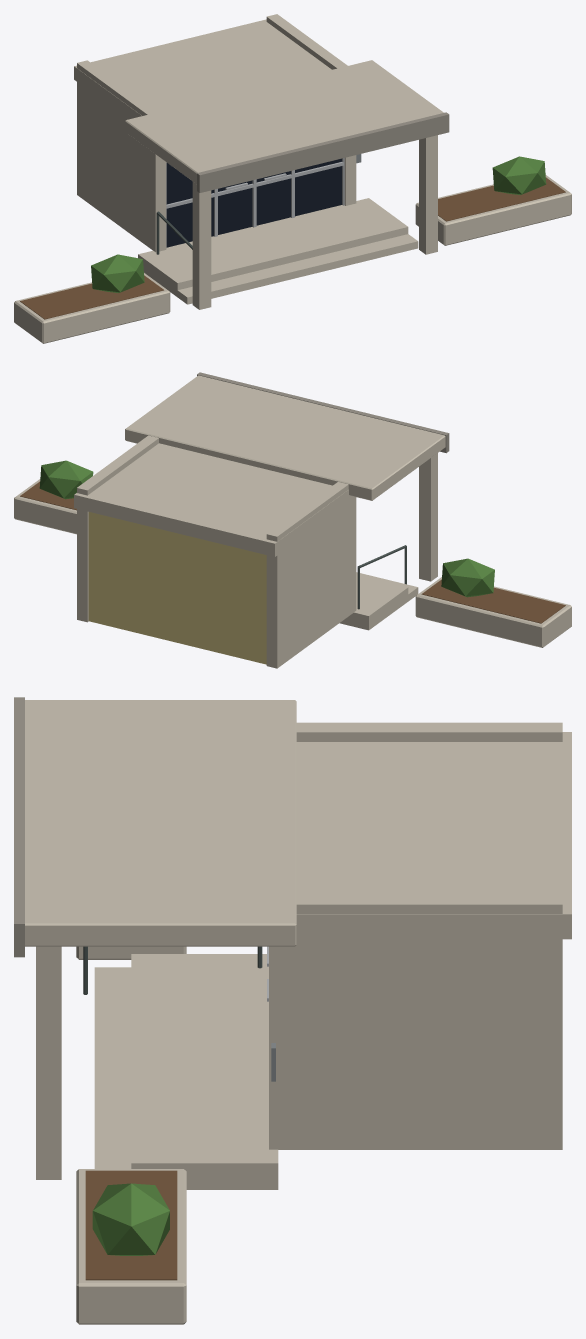
File: entree_tour.glb
3 renders of one model, top to bottom at view 1: azimuth 30°, elevation 25°; view 2: azimuth 150°, elevation 25°; view 3: azimuth 270°, elevation 25°, orthographic. The views are drawn at different scales.
Visible parts, largest first — view 1: Auvent, ToitHall, MurHall, Seuil, Vitrage, AuventBord, Jardiniere, Marche, Jardiniere.001, Terre, Poteau, Terre.001 (+5 smaller); view 2: Auvent, FondHall, ToitHall, MurHall, Jardiniere, MurHall.001, Terre, Poteau, Seuil, Arbuste, Jardiniere.001, Arbuste.001 (+2 smaller); view 3: Auvent, MurHall.001, ToitHall, Seuil, Marche, Jardiniere.001, Poteau.001, Terre.001, MurHall, Arbuste.001, AuventBord, Jardiniere.
Boxes of the visible parts, box(x1,y1,x2,y2) form: Auvent: box(125, 60, 443, 184); ToitHall: box(74, 19, 331, 119); MurHall: box(77, 60, 166, 252); Seuil: box(138, 198, 408, 297); Vitrage: box(166, 158, 341, 247); AuventBord: box(197, 112, 449, 192); Jardiniere: box(14, 273, 170, 343); Marche: box(177, 234, 418, 304); Jardiniere.001: box(415, 175, 571, 245); Terre: box(20, 275, 163, 319); Poteau: box(192, 182, 211, 309); Terre.001: box(438, 177, 565, 221); Auvent: box(125, 375, 445, 500); FondHall: box(88, 512, 266, 664); ToitHall: box(74, 443, 356, 556); MurHall: box(266, 482, 356, 668); Jardiniere: box(415, 577, 571, 647); MurHall.001: box(77, 435, 158, 622); Terre: box(421, 579, 565, 623); Poteau: box(419, 453, 437, 581); Seuil: box(339, 574, 408, 630); Arbuste: box(441, 558, 494, 597); Jardiniere.001: box(14, 479, 76, 534); Arbuste.001: box(39, 460, 93, 499); Auvent: box(25, 700, 296, 946); MurHall.001: box(269, 895, 562, 1149); ToitHall: box(296, 732, 571, 939); Seuil: box(131, 954, 278, 1189); Marche: box(94, 967, 131, 1168); Jardiniere.001: box(76, 1169, 186, 1324); Poteau.001: box(36, 946, 61, 1179); Terre.001: box(85, 1170, 177, 1280); MurHall: box(296, 722, 562, 741); Arbuste.001: box(92, 1183, 169, 1255); AuventBord: box(14, 697, 24, 957); Jardiniere: box(76, 946, 186, 959).
Size of the model in its own units: 12.4 by 3.3 by 6.08.
